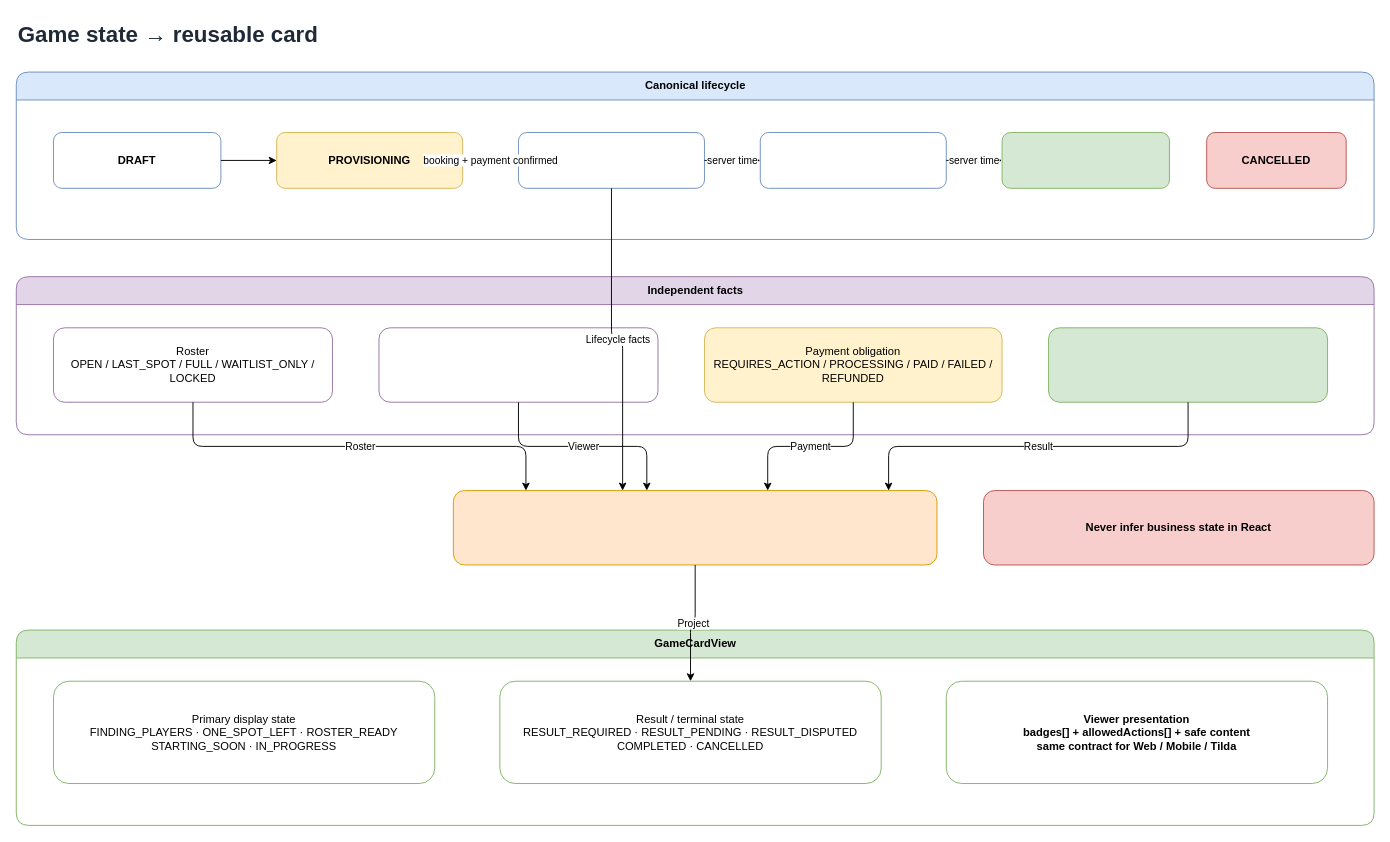
Image size: 1390x842. Some labels were removed from this diagram. The shapes that lost their labels are listed below. From the top down, each one's centre as x and y in pixels, then its label:
At (x=611, y=160): "SCHEDULED".
At (x=852, y=160): "IN_PROGRESS".
At (x=1085, y=160): "FINISHED".
At (x=518, y=364): "Viewer relation NONE / ORGANIZER / RESERVED / PARTICIPANT / WAITLISTED".
At (x=1188, y=364): "Result AWAITING / PENDING / CONFIRMED / DISPUTED / VOID".
At (x=694, y=527): "Versioned server card projector one aggregate revision + verified viewer".
